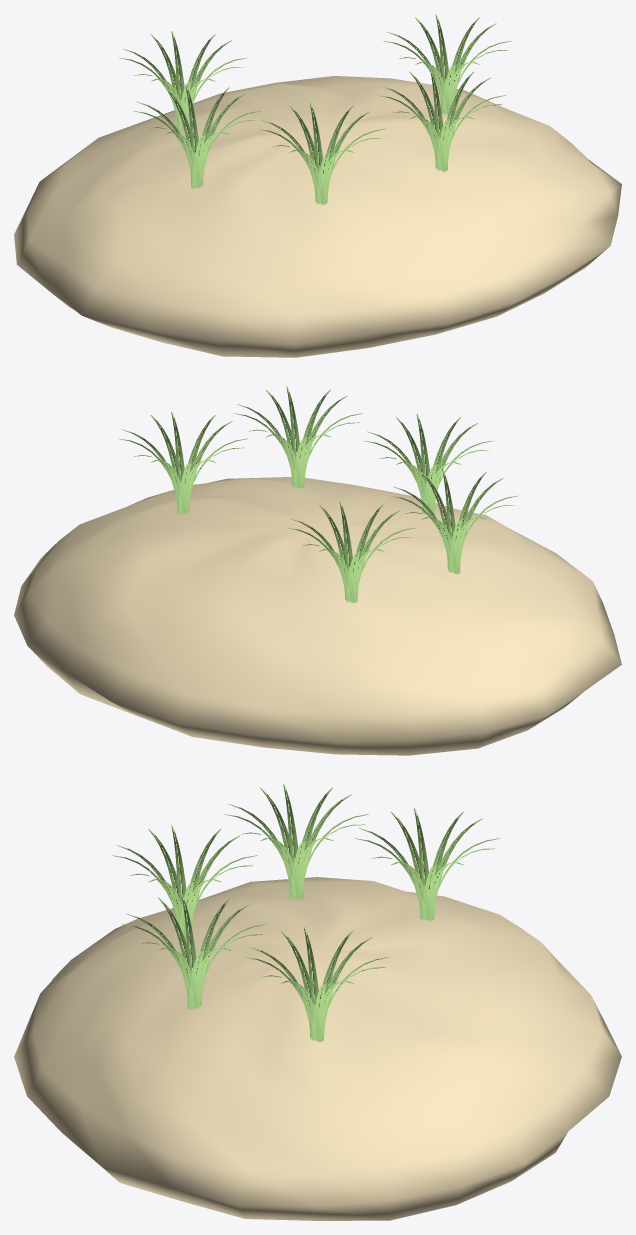
Rendered from beach_dune_with_grass_tropical_island_and_palm_trees_6830.glb.
3 renders of one model, top to bottom at view 1: azimuth 30°, elevation 25°; view 2: azimuth 150°, elevation 25°; view 3: azimuth 270°, elevation 25°, orthographic. The views are drawn at different scales.
Visible parts, largest first — view 1: dune-grass-mound; view 2: dune-grass-mound; view 3: dune-grass-mound.
Part boxes in pixels (x1,y1,x2,y2): dune-grass-mound: (14,14,621,357); dune-grass-mound: (14,386,621,755); dune-grass-mound: (14,784,621,1220).
Size of the model in its own units: 2.91 by 0.8984 by 2.51.
